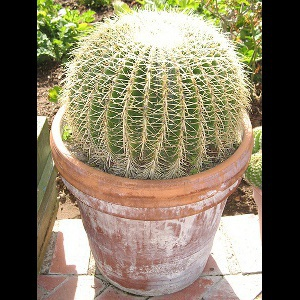flowerpot: (50, 94, 253, 295)
